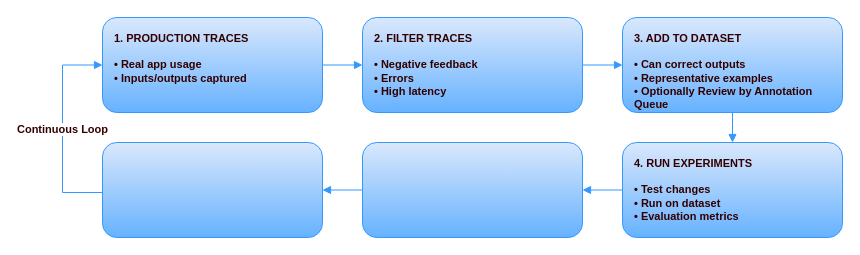
Some shapes in this 860 by 255 pixel diagram are drawn without their labels. Here are the shapes that lost their labels. From the top down, the box of each, then its label:
(102, 142, 322, 238): 6. DEPLOY & ITERATE • Deploy changes • Monitor production • Collect feedback
(362, 142, 582, 238): 5. ANALYZE RESULTS • Compare traces • Identify failures • Find improvements
